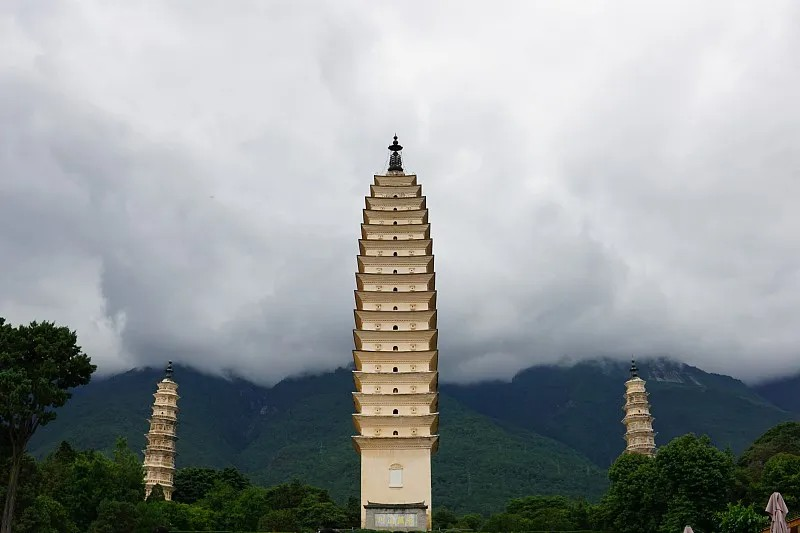ThreePagoda: (352, 132, 440, 533)
